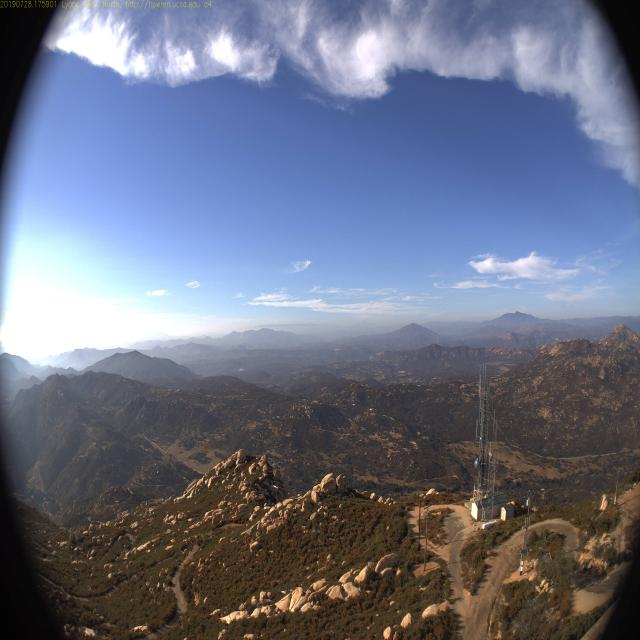smoke: (64, 356, 77, 376)
